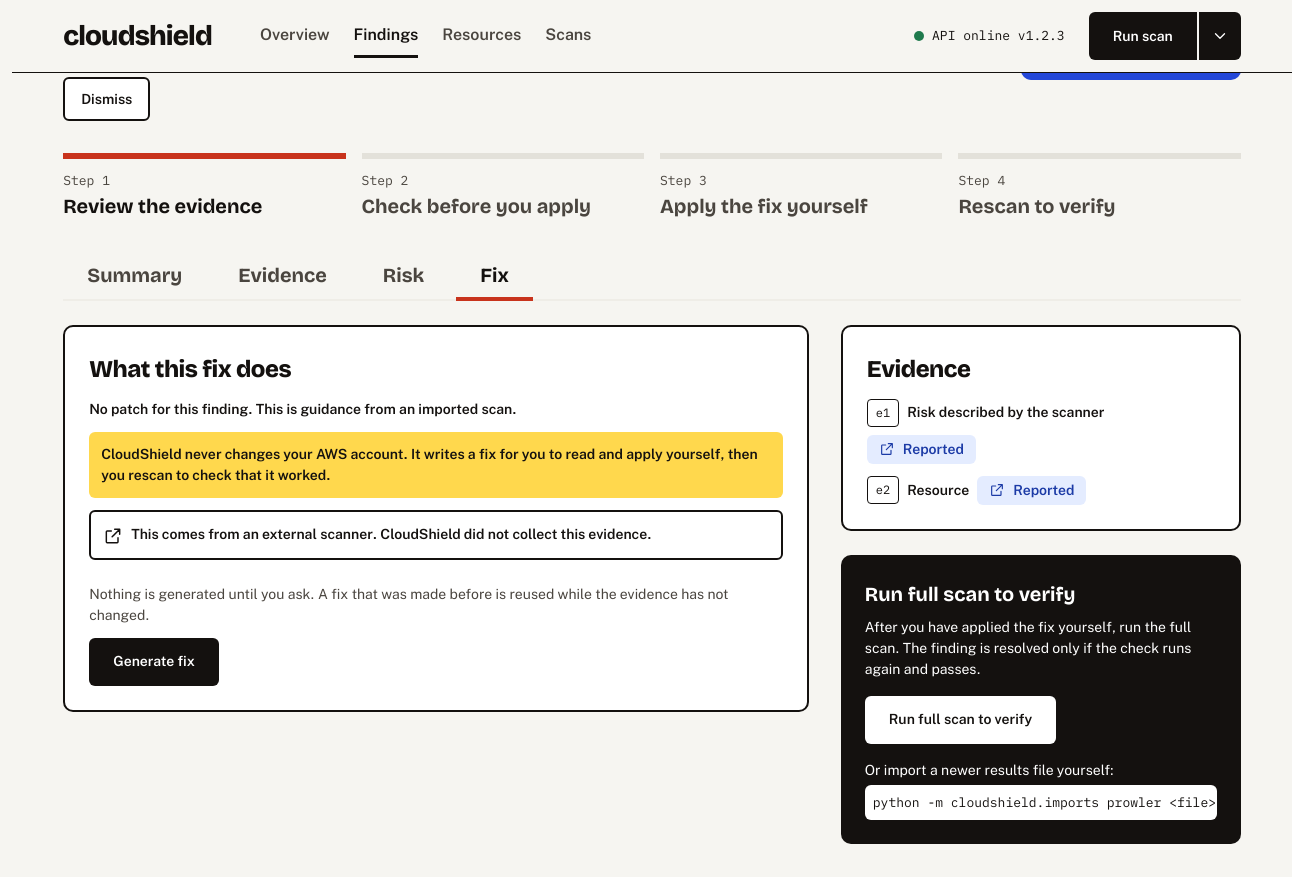
Fix page: imported text is formatted › shows the scanner's risk with a Reported chip, formatted the same way
(page scrolled)
Click the button "Generate fix" at (154, 662), box x1=89 y1=638 x2=219 y2=686
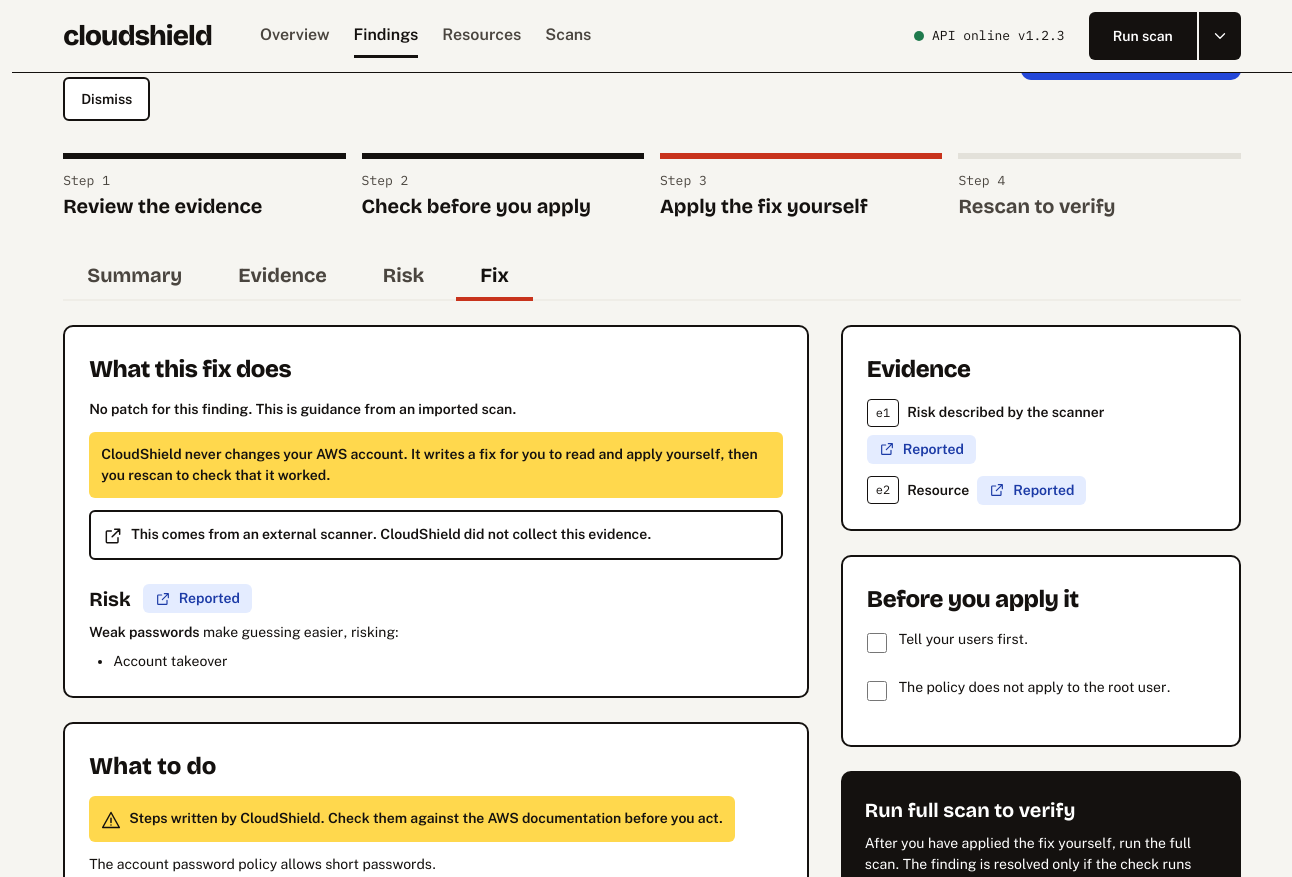
Expected: the heading "What to do" is shown, x1=89 y1=752 x2=216 y2=780
Expected: the text "Weak passwords" is shown, x1=89 y1=624 x2=200 y2=640
Expected: the list item "Account takeover" is shown, x1=113 y1=652 x2=228 y2=668
